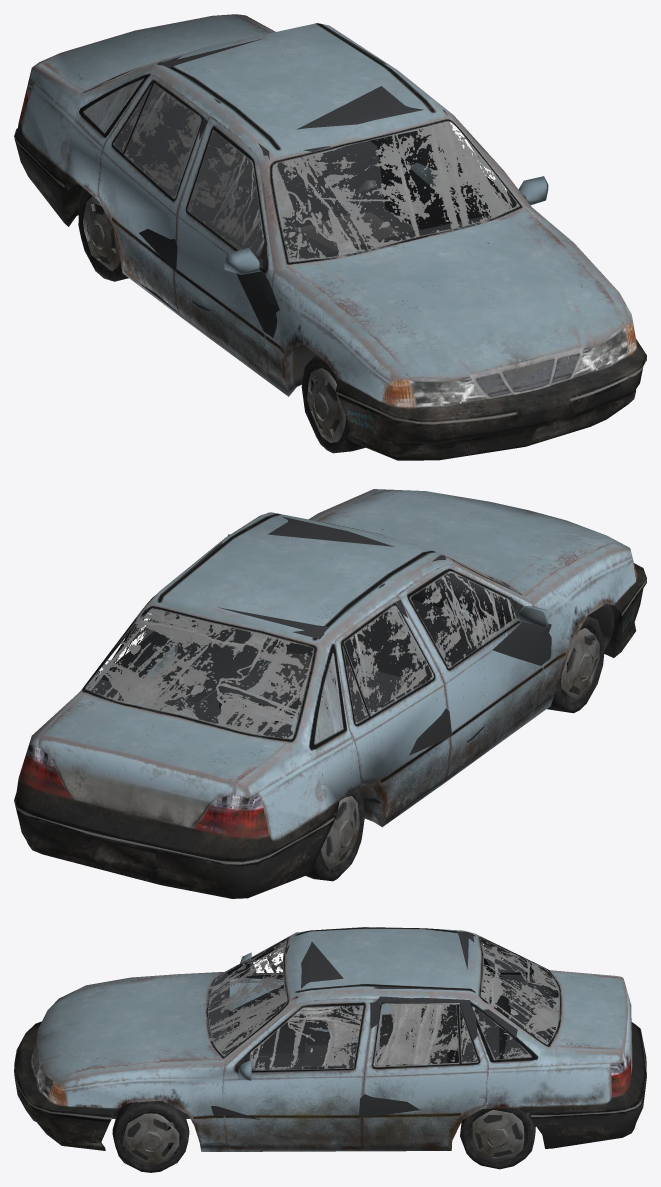
The model's file is car3_sedan_compact.glb.
The picture shows the model from 3 angles, top to bottom: view 1: azimuth 30°, elevation 25°; view 2: azimuth 150°, elevation 25°; view 3: azimuth 270°, elevation 25°; orthographic projection. The views are drawn at different scales.
Visible parts, largest first — view 1: Plane, Plane.004, Cylinder.011, Cylinder.013, Cylinder.010, Cylinder.012; view 2: Plane, Plane.004, Cylinder.011, Cylinder.013, Cylinder.010, Cylinder.012; view 3: Plane, Plane.004, Cylinder.006, Cylinder.009, Cylinder.007, Cylinder.003.
Boxes of the visible parts, left/top/right/bottom form: Plane: left=14, top=14, right=646, bottom=460; Plane.004: left=109, top=24, right=516, bottom=337; Cylinder.011: left=307, top=368, right=345, bottom=442; Cylinder.013: left=83, top=196, right=120, bottom=271; Cylinder.010: left=301, top=355, right=365, bottom=453; Cylinder.012: left=78, top=189, right=128, bottom=281; Plane: left=14, top=489, right=646, bottom=898; Plane.004: left=88, top=512, right=551, bottom=811; Cylinder.011: left=561, top=628, right=599, bottom=702; Cylinder.013: left=321, top=796, right=359, bottom=869; Cylinder.010: left=547, top=616, right=604, bottom=713; Cylinder.012: left=305, top=789, right=364, bottom=881; Plane: left=14, top=927, right=646, bottom=1151; Plane.004: left=208, top=927, right=558, bottom=1149; Cylinder.006: left=112, top=1100, right=189, bottom=1172; Cylinder.009: left=472, top=1110, right=524, bottom=1162; Cylinder.007: left=122, top=1113, right=179, bottom=1165; Cylinder.003: left=460, top=1107, right=535, bottom=1169.
Bounding box in the file's own units: 1.9 × 1.29 × 4.3.
5 materials, 4 textured.
